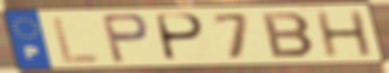7: (210, 11, 254, 60)
B: (259, 11, 318, 59)
H: (313, 9, 377, 59)
L: (49, 15, 103, 66)
P: (98, 12, 152, 65), (155, 12, 208, 63)
